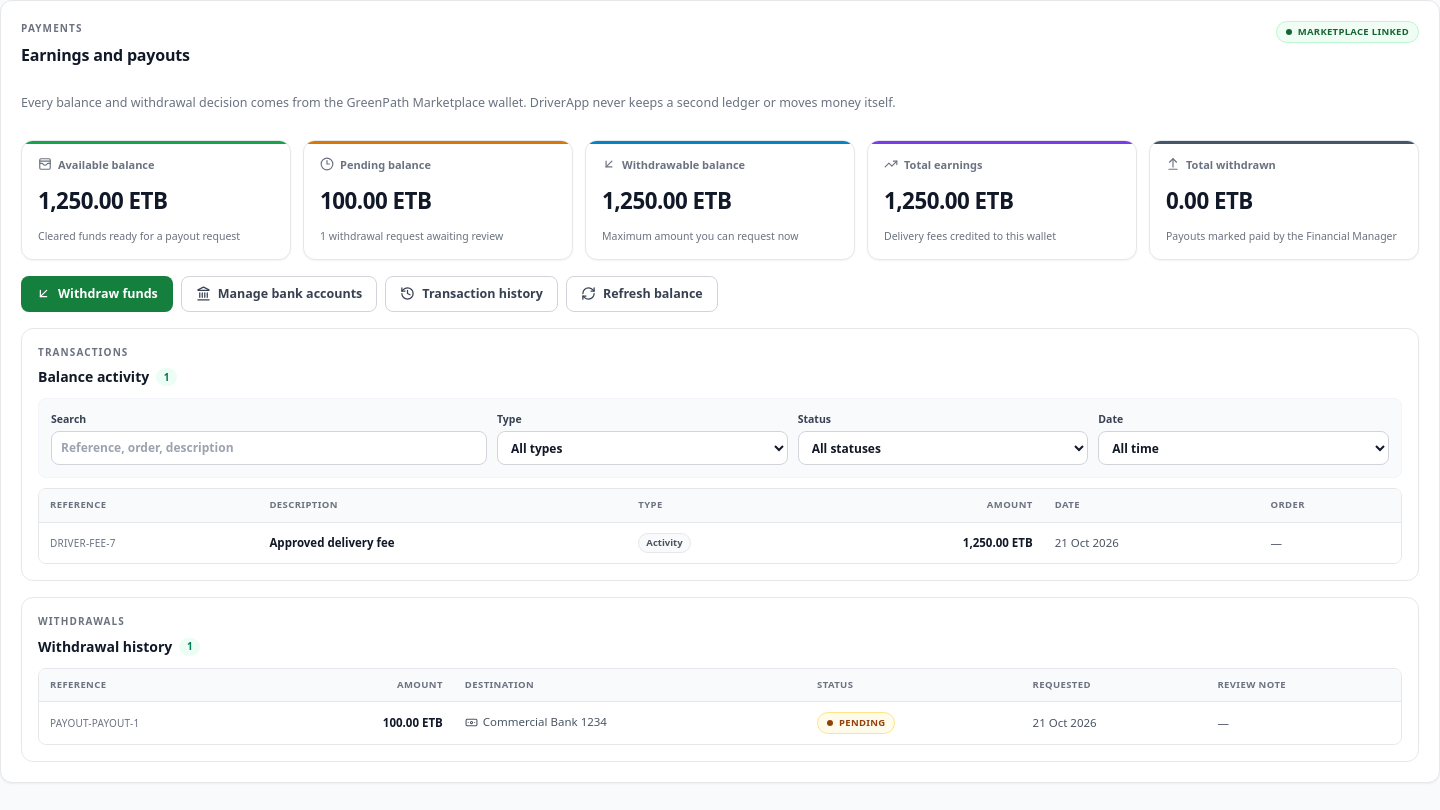
Test: Driver wallet › shows the approved Marketplace balance and the payout request form
The image size is (1440, 810).
Check: the text "1,250.00 ETB" below "Available balance" is shown, box [38,185,168,216]
Check: the text "DRIVER-FEE-7" is shown, box [39,523,258,564]
Click the button "Withdraw funds". click: {"x": 97, "y": 294}
box: [21,276,173,312]
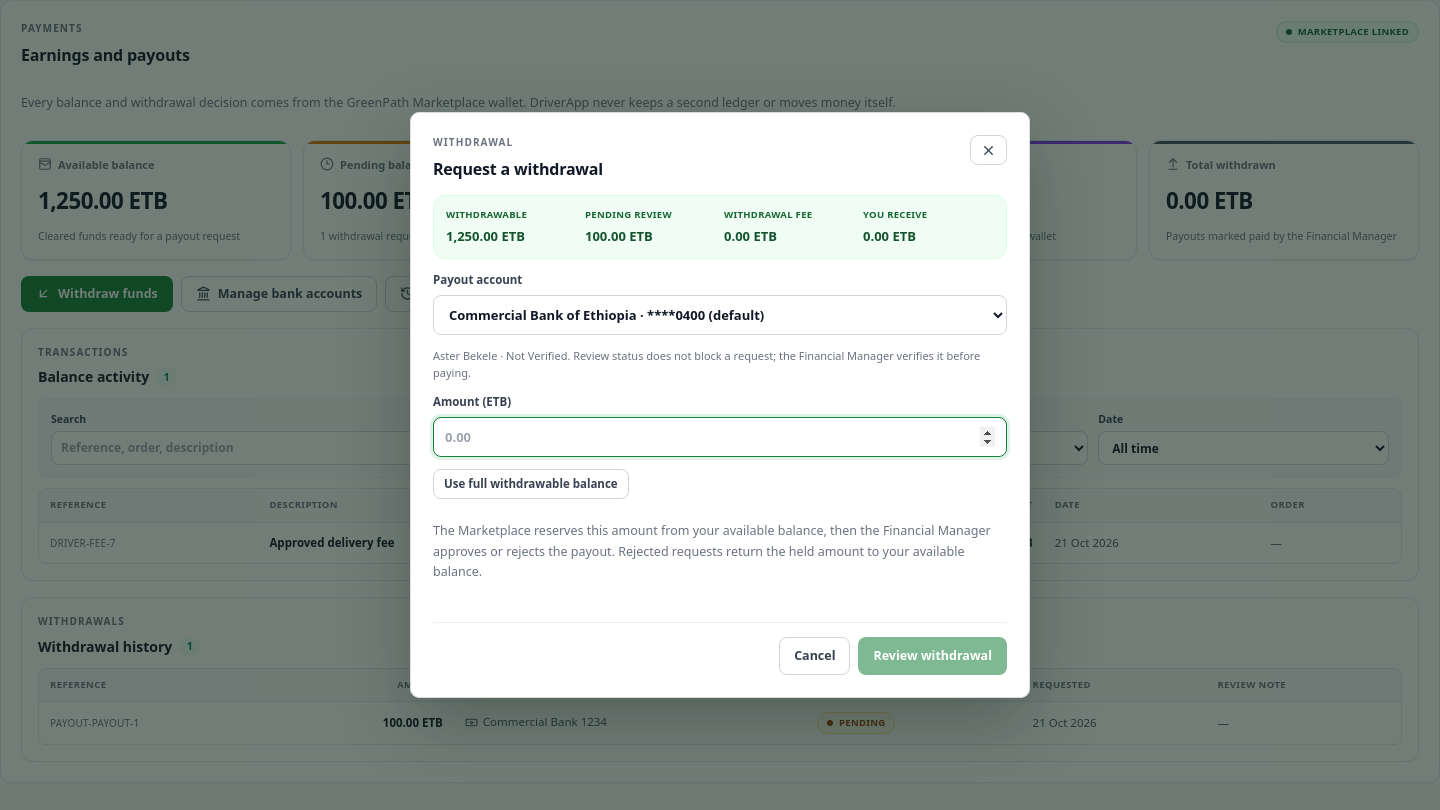
Check: the number field labelled "Amount (ETB)" is shown, box [433,417,1007,457]
